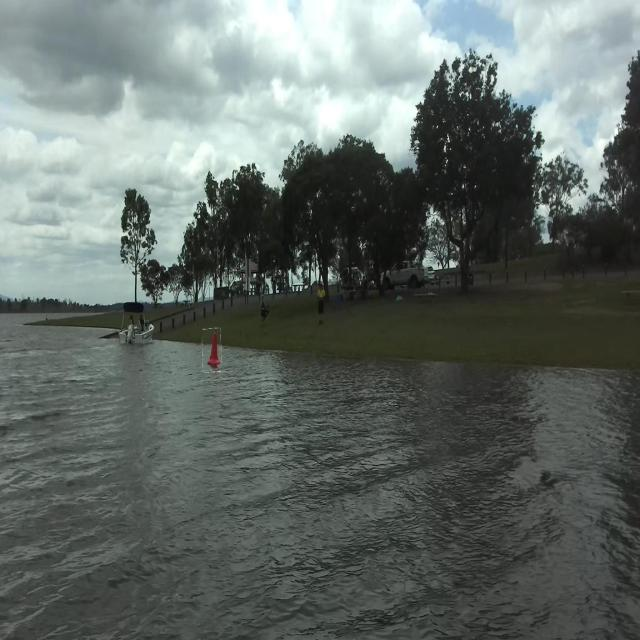Red_Buoy: (203, 328, 221, 374)
